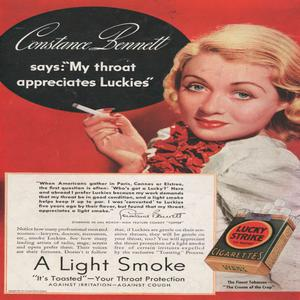cigarette: (66, 99, 117, 123)
